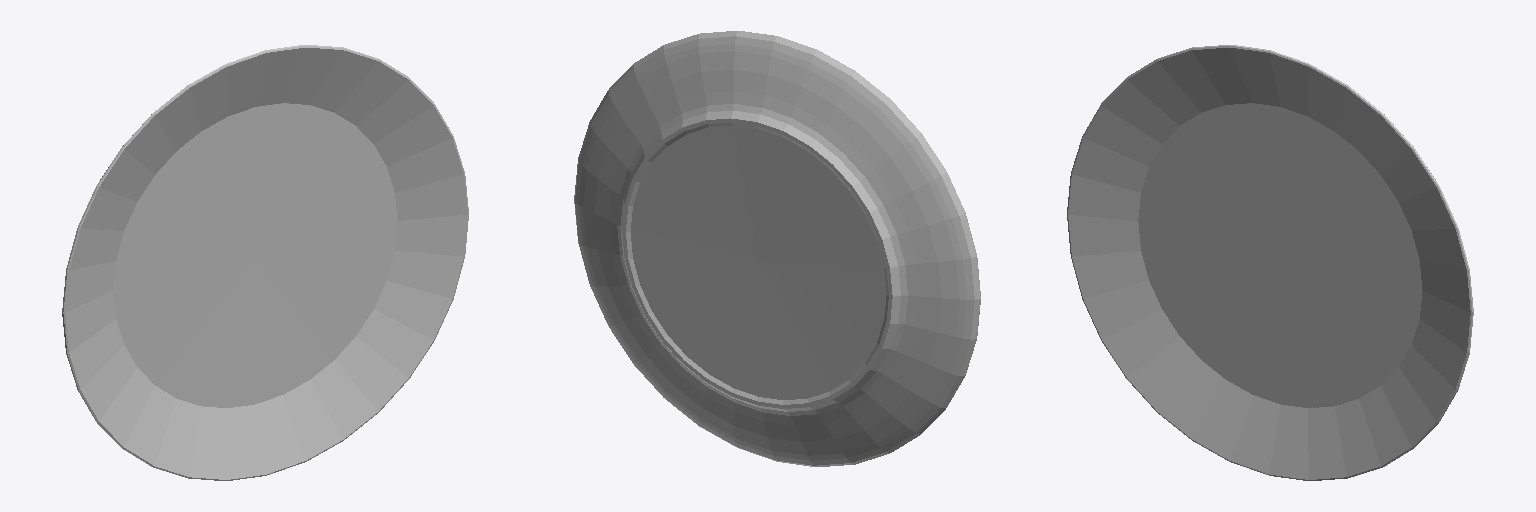
The model's file is ikea_dinera_plate_8in_col.obj.
The picture shows the model from 3 angles: view 1: azimuth 30°, elevation 25°; view 2: azimuth 150°, elevation 25°; view 3: azimuth 330°, elevation 25°; orthographic projection.
Parts seen in each view (by area): view 1: ikea_dinera_plate_8in_col_concave_Vert.026; view 2: ikea_dinera_plate_8in_col_concave_Vert.026; view 3: ikea_dinera_plate_8in_col_concave_Vert.026.
Part boxes in pixels (x1,y1,x2,y2): ikea_dinera_plate_8in_col_concave_Vert.026: (62, 45, 468, 480); ikea_dinera_plate_8in_col_concave_Vert.026: (574, 31, 980, 466); ikea_dinera_plate_8in_col_concave_Vert.026: (1067, 45, 1473, 480).
Size of the model in its own units: 0.1962 by 0.1962 by 0.0178.